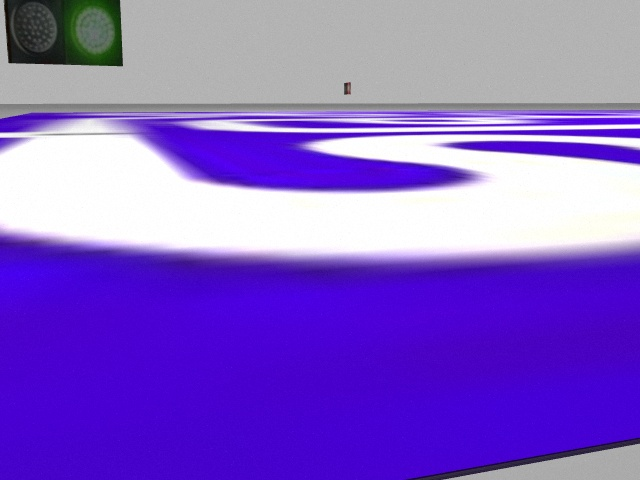green: (61, 1, 125, 67)
